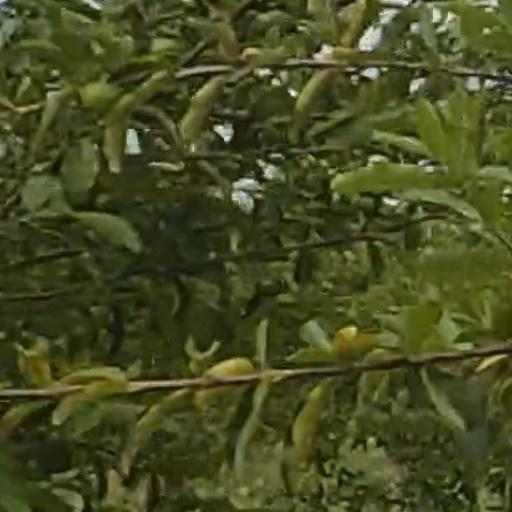acerola_verde: (333, 325, 371, 358)
